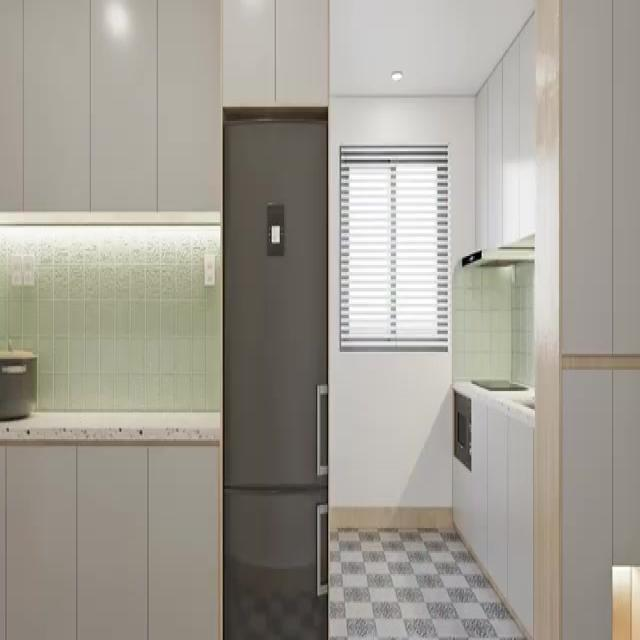obstacle: (221, 110, 329, 638), (0, 0, 222, 222)
